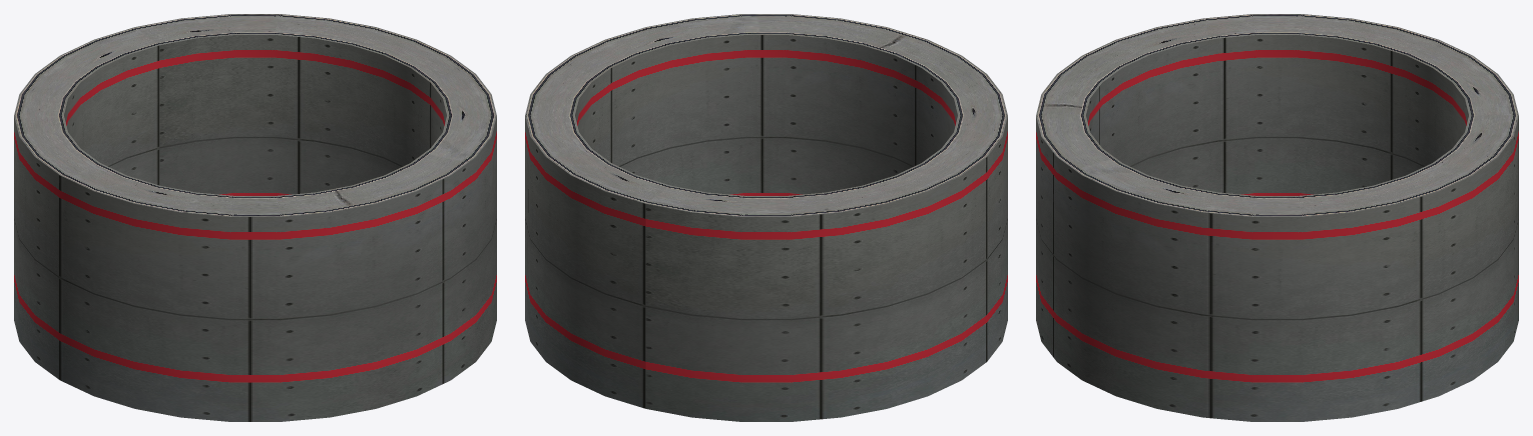
Rendered from wall_3.FBX.
3 renders of one model, left to right at view 1: azimuth 30°, elevation 25°; view 2: azimuth 150°, elevation 25°; view 3: azimuth 270°, elevation 25°, orthographic.
Visible parts, largest first — view 1: Box002; view 2: Box002; view 3: Box002.
Part boxes in pixels (x1,y1,x2,y2): Box002: (14,14,496,421); Box002: (525,14,1007,421); Box002: (1036,14,1518,421).
Size of the model in its own units: 359 by 169 by 361.
1 material, 1 textured.
